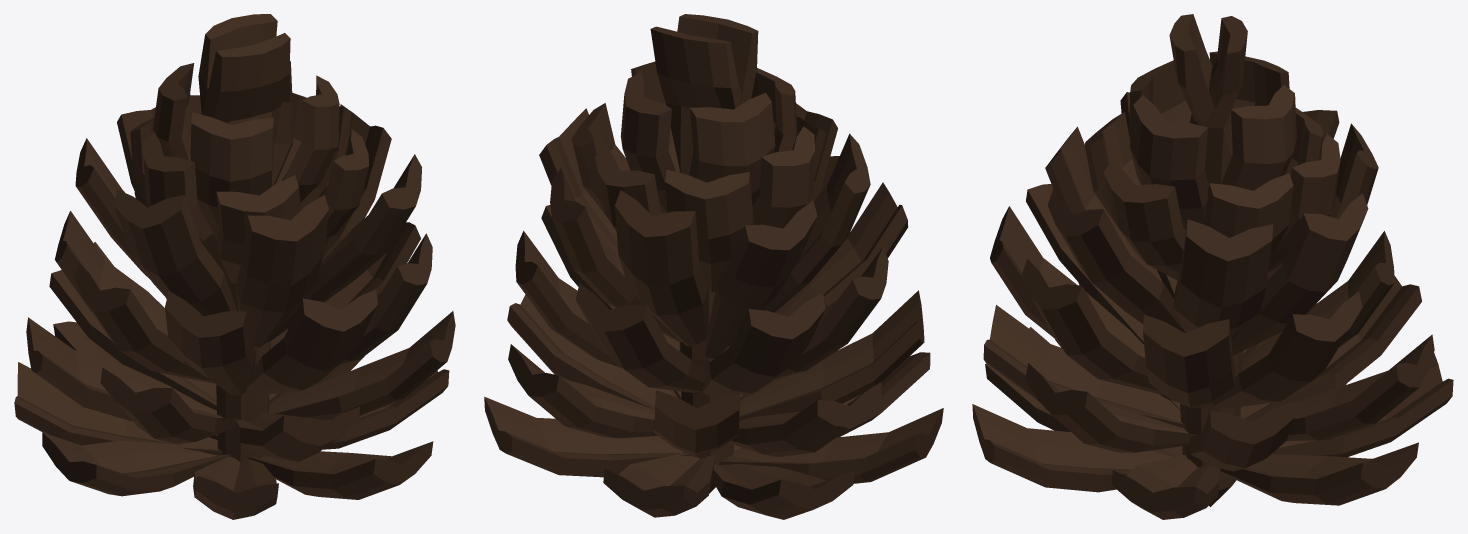
The model's file is SolBagwool.fbx.
3 renders of one model, left to right at view 1: azimuth 30°, elevation 25°; view 2: azimuth 150°, elevation 25°; view 3: azimuth 270°, elevation 25°, orthographic. The views are drawn at different scales.
Parts seen in each view (by area): view 1: Middle; view 2: Middle; view 3: Middle.
Part boxes in pixels (x1=…): Middle: x1=14, y1=14, x2=455, y2=519; Middle: x1=484, y1=14, x2=943, y2=519; Middle: x1=972, y1=14, x2=1453, y2=519.
Size of the model in its own units: 62.12 by 71.11 by 64.67.
